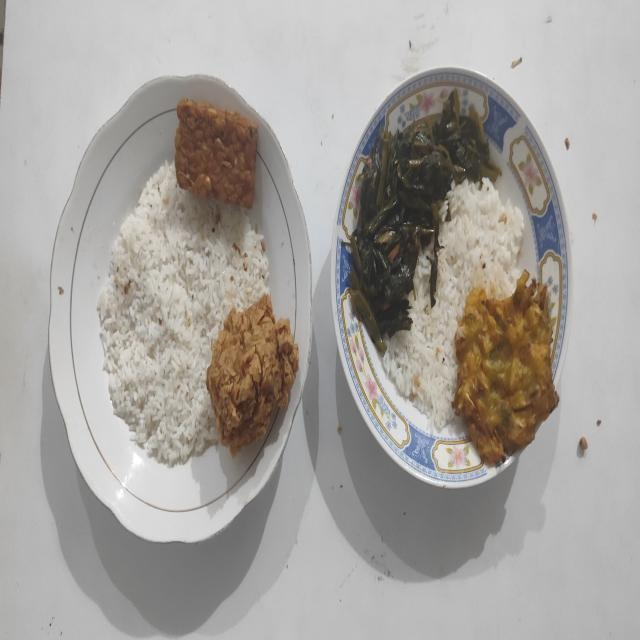nasi_putih: (97, 162, 269, 466), (382, 180, 524, 430)
tempe_goreng: (175, 99, 258, 208)
tumis_kangkung: (344, 89, 502, 354)
